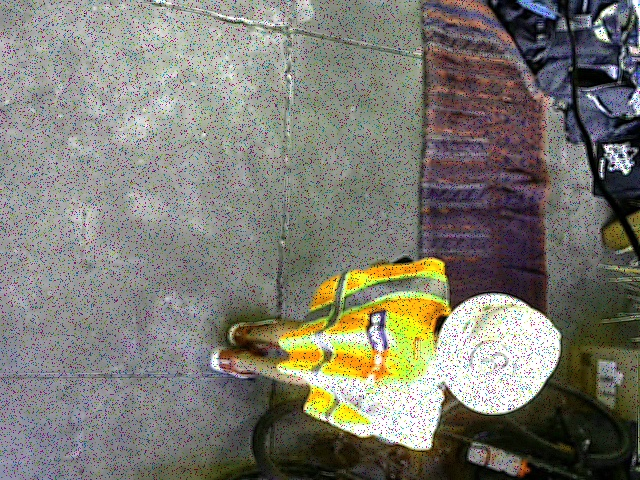eight: (468, 338, 517, 387)
